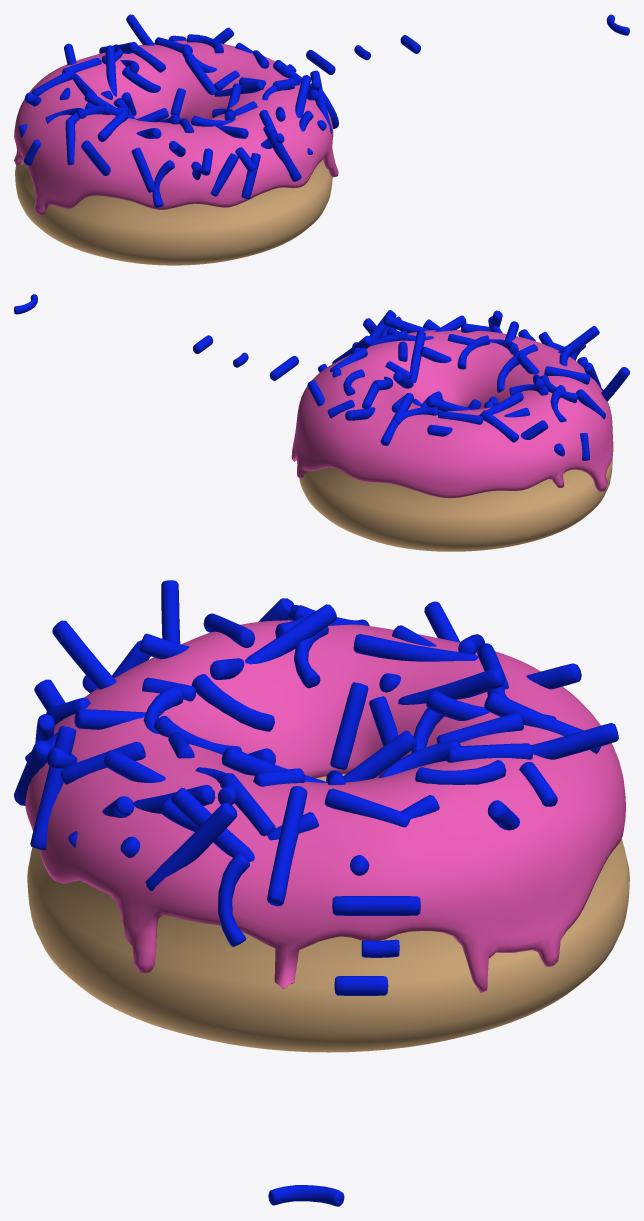
File: donut.fbx
3 views of the same model, one above another, from view 1: azimuth 30°, elevation 25°; view 2: azimuth 150°, elevation 25°; view 3: azimuth 270°, elevation 25° (orthographic). The views are drawn at different scales.
Parts seen in each view (by area): view 1: Icing, Donut; view 2: Icing, Donut; view 3: Icing, Donut, Sprinkle, Sprinkle.003, Sprinkle.002.
Part boxes in pixels (x1,y1,x2,y2): Icing: (14, 14, 338, 215); Donut: (15, 159, 332, 265); Icing: (291, 310, 629, 498); Donut: (299, 458, 612, 551); Icing: (14, 580, 625, 992); Donut: (27, 774, 629, 1052); Sprinkle: (332, 896, 420, 915); Sprinkle.003: (268, 1185, 344, 1206); Sprinkle.002: (334, 976, 388, 995).
Size of the model in its own units: 110 by 26.33 by 52.49.
